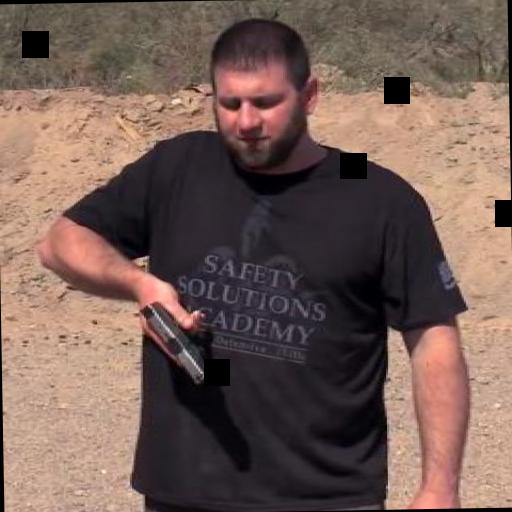Handgun: (133, 286, 220, 380)
